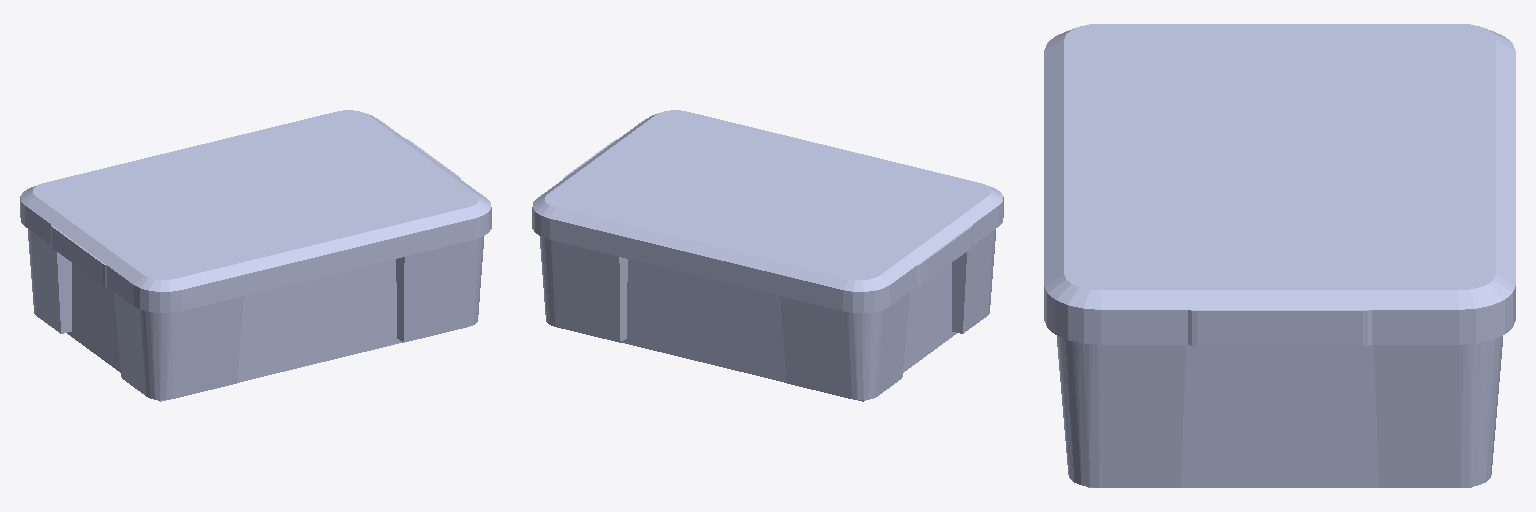
robot.urdf — box_lid:
<?xml version="1.0" encoding="utf-8"?>
<robot
  name="box_lid">
  <link
    name="base_link">
    <inertial>
      <origin
        xyz="1.74161777305237E-09 1.6392135868283E-09 0.0773090350276215"
        rpy="0 0 0" />
      <mass
        value="16.3616374554097" />
      <inertia
        ixx="0.135669602539669"
        ixy="-2.47861924241064E-10"
        ixz="-8.66182800669958E-10"
        iyy="0.262221074353468"
        iyz="-8.15003351097369E-10"
        izz="0.33666879275949" />
    </inertial>
    <visual>
      <origin
        xyz="0 0 0"
        rpy="0 0 0" />
      <geometry>
        <mesh
          filename="package://mc_int_obj_description/meshes/box_lid/box_lid.stl" />
      </geometry>
      <material
        name="">
        <color
          rgba="0.792156862745098 0.819607843137255 0.933333333333333 1" />
      </material>
    </visual>
    <collision>
      <origin
        xyz="0 0 0"
        rpy="0 0 0" />
      <geometry>
        <mesh
          filename="package://mc_int_obj_description/meshes/box_lid/box_lid.stl" />
      </geometry>
    </collision>
  </link>
</robot>

--- Facts derived from the render (not from the file) ---
The picture shows the robot from 3 angles, left to right: view 1: azimuth 30°, elevation 25°; view 2: azimuth 150°, elevation 25°; view 3: azimuth 270°, elevation 25°; orthographic projection.
Robot: box_lid — 1 links, 0 joints (none); root link base_link; default pose: every joint at zero.
Visible links, largest first — view 1: base_link; view 2: base_link; view 3: base_link.
Link boxes in pixels (x1,y1,x2,y2): base_link: [20, 110, 491, 401]; base_link: [532, 110, 1003, 401]; base_link: [1044, 24, 1515, 487].
Bounding box of the posed robot: 0.44 × 0.306 × 0.149 m (x, y, z).
Meshes: 1 distinct files referenced, 1 mesh visuals loaded (1 binary STL).